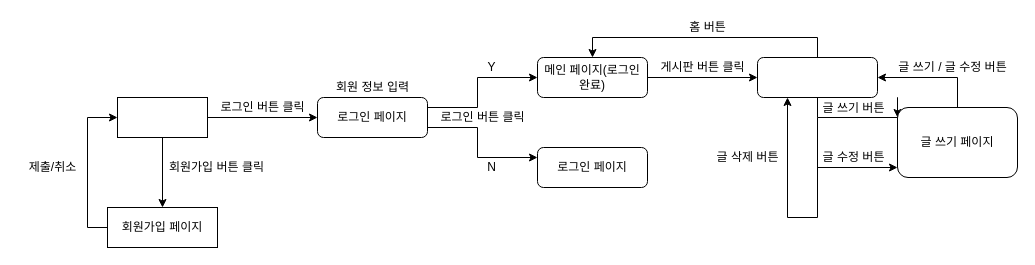
This 1035x265 diagram has some shape labels left out. The shapes that lost their labels are listed below. From the top down, each one's centre as x and y in pixels, then its label:
At (x=817, y=77): "게시판 페이지".
At (x=162, y=117): "메인 페이지".
